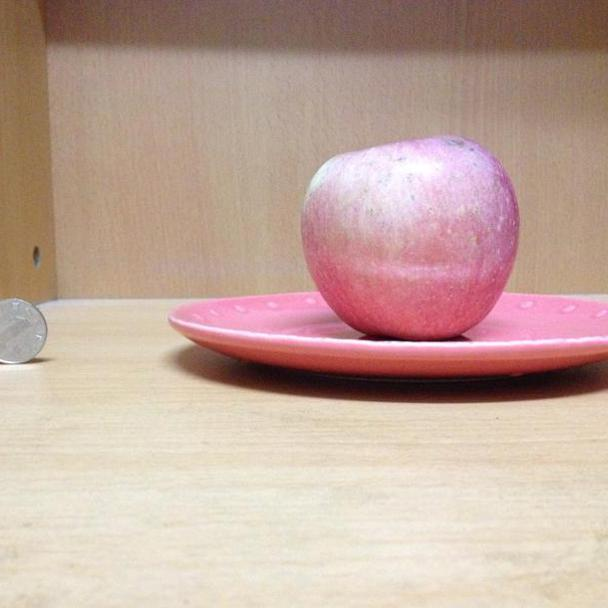apple: (298, 133, 521, 340)
